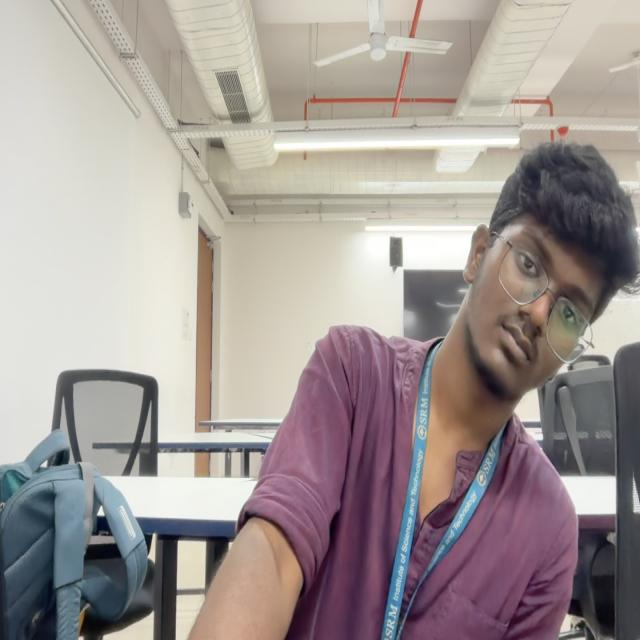ravindra: (461, 143, 635, 404)
